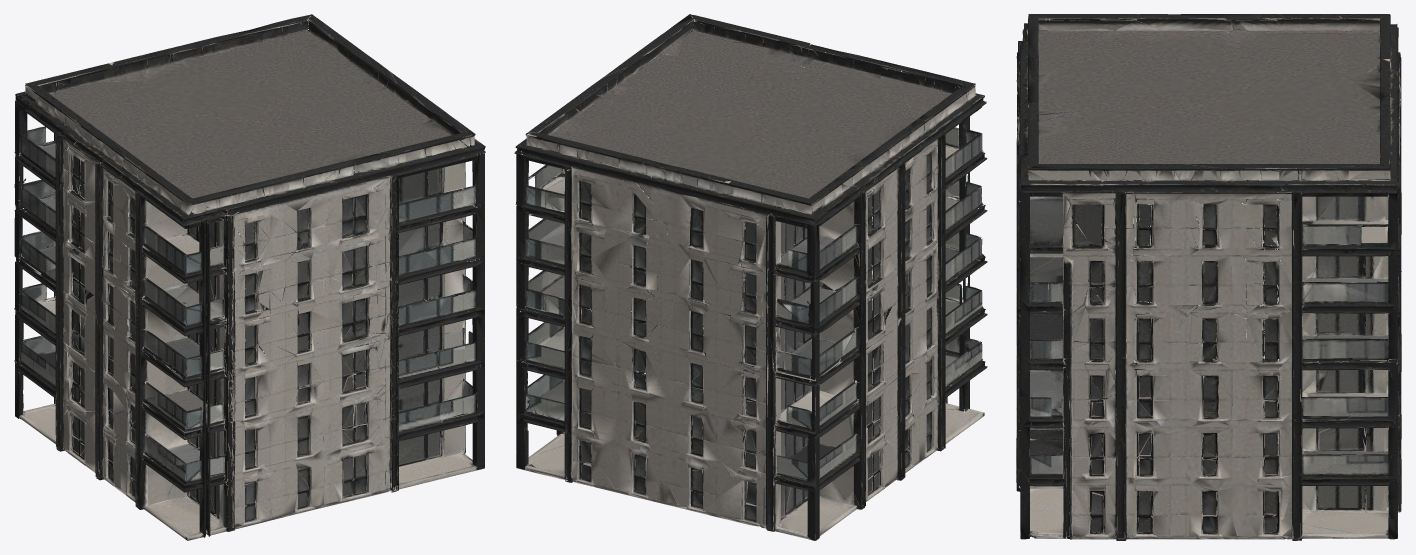
The model's file is apartment.glb.
The picture shows the model from 3 angles, left to right: view 1: azimuth 30°, elevation 25°; view 2: azimuth 150°, elevation 25°; view 3: azimuth 270°, elevation 25°; orthographic projection. The views are drawn at different scales.
Bounding box in the file's own units: 1.83 × 1.91 × 1.81.
Materials: 1 (1 with a texture image).
